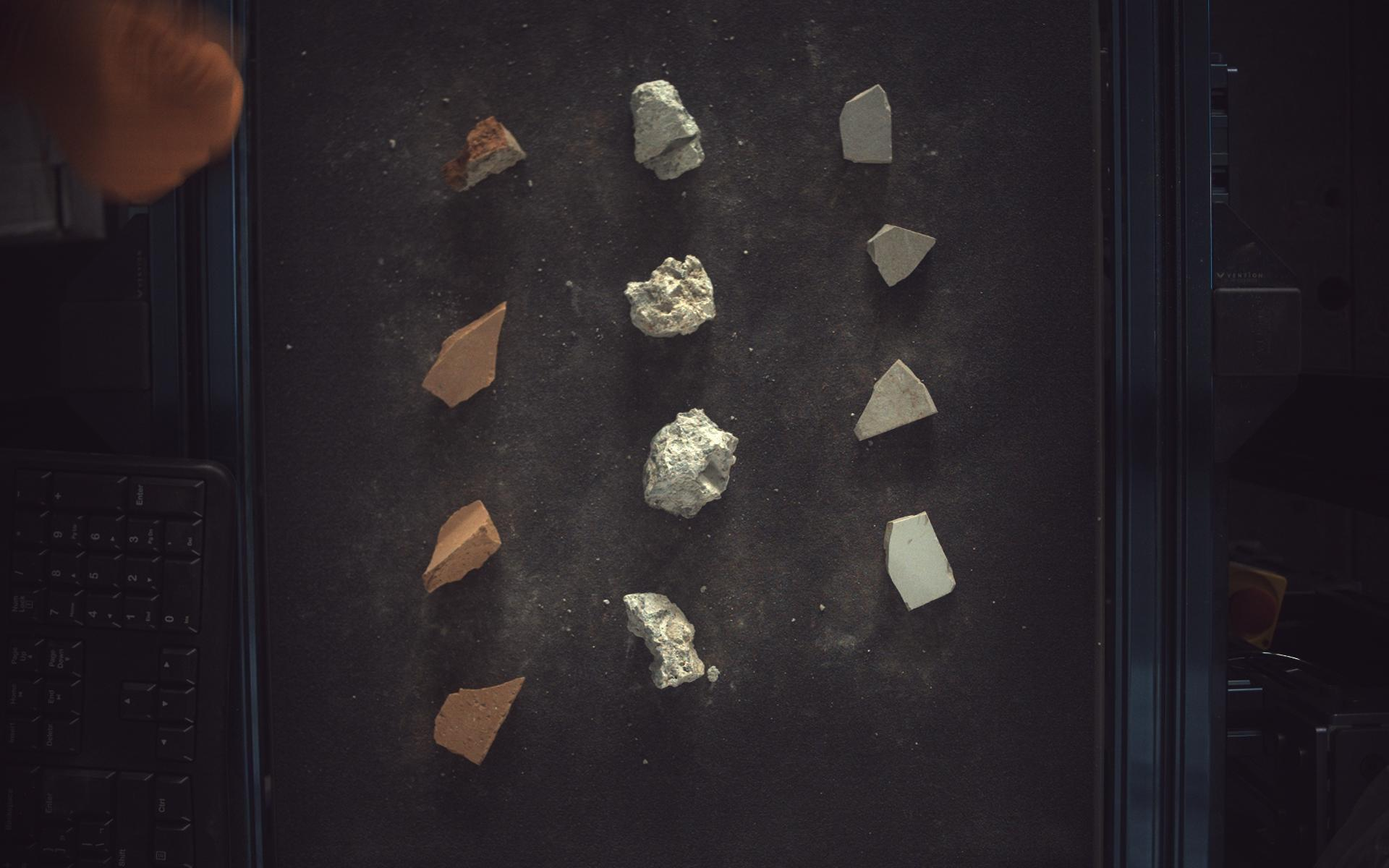brick: (422, 302, 506, 407), (434, 678, 525, 765), (422, 501, 501, 593), (442, 115, 527, 191)
concrete: (644, 409, 739, 519), (624, 594, 706, 689), (626, 255, 716, 337), (632, 78, 705, 179)
tile: (885, 512, 958, 610), (856, 359, 939, 441), (869, 224, 938, 286), (841, 83, 894, 163)
